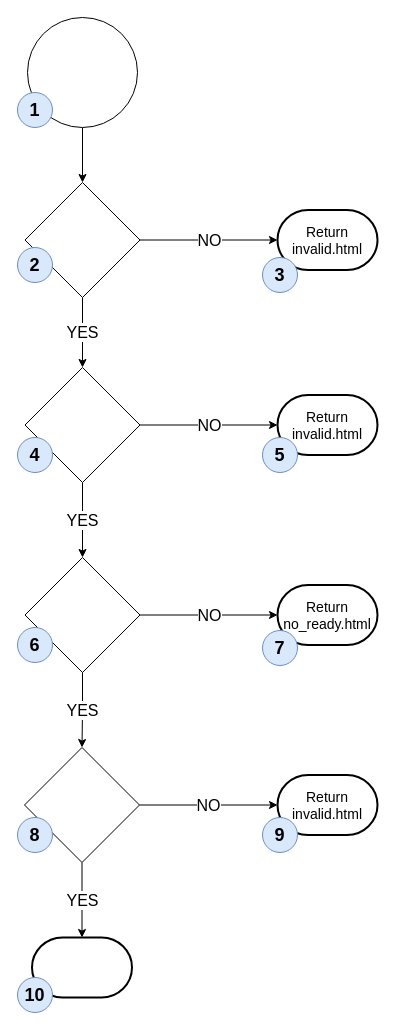
This 396x1030 diagram has some shape labels left out. Each missing label, with the box of its shape:
/download-music/f8abe-b3ea: (26, 16, 138, 128)
File exists in volume: (24, 746, 140, 862)
Is present in cache: (24, 366, 140, 482)
Send File: (30, 936, 132, 998)
Task Finish: (24, 556, 140, 672)
Valid MP3 name format (UUID): (24, 182, 140, 298)
